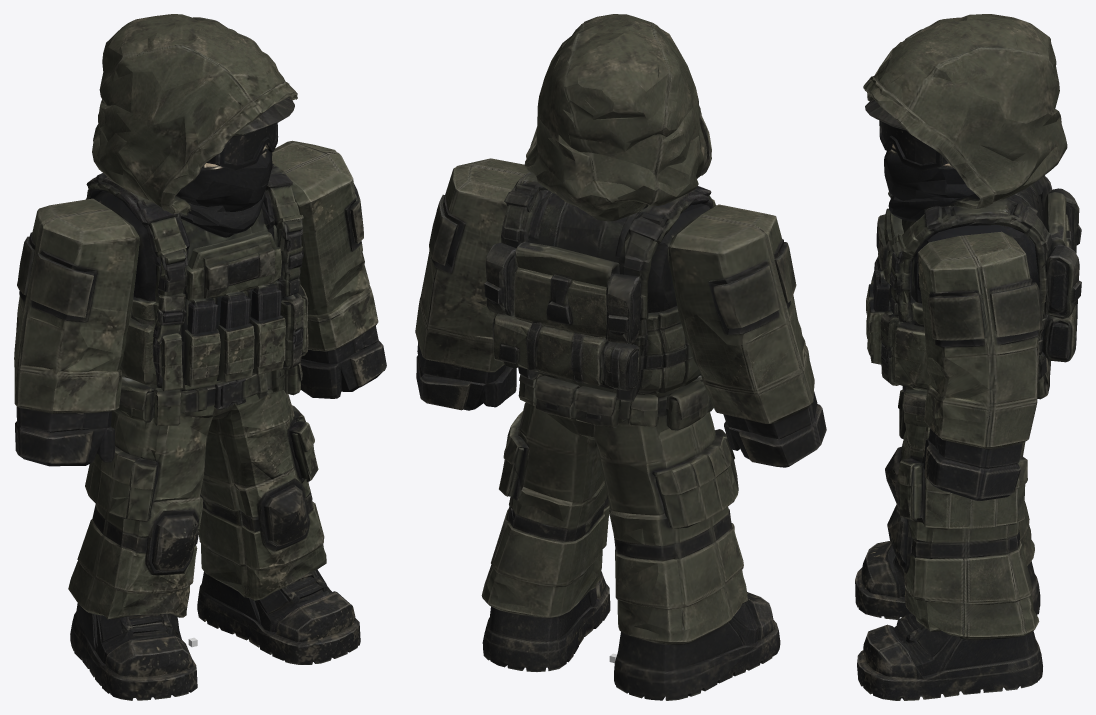
The model's file is AS_Scout.glb.
3 views of the same model, side by side, from view 1: azimuth 30°, elevation 25°; view 2: azimuth 150°, elevation 25°; view 3: azimuth 270°, elevation 25° (orthographic). The views are drawn at different scales.
Parts seen in each view (by area): view 1: Head_Suit, UpperTorso_Suit, LeftFoot_Suit, LeftUpperLeg_Suit, RightLowerArm_Suit, RightFoot_Suit, LowerTorso_Suit, RightUpperArm_Suit, RightLowerLeg_Suit, LeftLowerLeg_Suit, RightUpperLeg_Suit, RightHand_Suit (+3 smaller); view 2: Head_Suit, UpperTorso_Suit, RightLowerLeg_Suit, LowerTorso_Suit, RightFoot_Suit, RightUpperArm_Suit, RightLowerArm_Suit, RightUpperLeg_Suit, LeftFoot_Suit, LeftLowerLeg_Suit, LeftUpperLeg_Suit, LeftLowerArm_Suit (+3 smaller); view 3: Head_Suit, UpperTorso_Suit, LeftFoot_Suit, LeftLowerLeg_Suit, LeftLowerArm_Suit, LeftUpperArm_Suit, LeftUpperLeg_Suit, LeftHand_Suit, RightFoot_Suit, LowerTorso_Suit, RightLowerLeg_Suit, RightUpperLeg_Suit.
Boxes of the visible parts, bbox=[...] form: Head_Suit: bbox=[37, 14, 351, 249]; UpperTorso_Suit: bbox=[86, 185, 308, 420]; LeftFoot_Suit: bbox=[197, 544, 360, 664]; LeftUpperLeg_Suit: bbox=[200, 393, 318, 536]; RightLowerArm_Suit: bbox=[14, 291, 129, 434]; RightFoot_Suit: bbox=[68, 578, 197, 700]; LowerTorso_Suit: bbox=[111, 354, 304, 470]; RightUpperArm_Suit: bbox=[17, 211, 139, 353]; RightLowerLeg_Suit: bbox=[71, 504, 200, 659]; LeftLowerLeg_Suit: bbox=[198, 480, 331, 611]; RightUpperLeg_Suit: bbox=[85, 415, 207, 564]; RightHand_Suit: bbox=[14, 390, 120, 466]; Head_Suit: bbox=[453, 14, 775, 254]; UpperTorso_Suit: bbox=[484, 172, 716, 424]; RightLowerLeg_Suit: bbox=[610, 507, 762, 658]; LowerTorso_Suit: bbox=[515, 373, 727, 474]; RightFoot_Suit: bbox=[614, 588, 780, 700]; RightUpperArm_Suit: bbox=[668, 205, 800, 359]; RightLowerArm_Suit: bbox=[670, 295, 814, 435]; RightUpperLeg_Suit: bbox=[587, 422, 738, 572]; LeftFoot_Suit: bbox=[481, 553, 610, 671]; LeftLowerLeg_Suit: bbox=[485, 487, 609, 625]; LeftUpperLeg_Suit: bbox=[499, 402, 607, 543]; LeftLowerArm_Suit: bbox=[415, 251, 496, 366]; Head_Suit: bbox=[863, 14, 1067, 273]; UpperTorso_Suit: bbox=[866, 175, 1081, 419]; LeftFoot_Suit: bbox=[857, 596, 1042, 700]; LeftLowerLeg_Suit: bbox=[887, 509, 1034, 656]; LeftLowerArm_Suit: bbox=[896, 323, 1038, 465]; LeftUpperArm_Suit: bbox=[918, 233, 1042, 380]; LeftUpperLeg_Suit: bbox=[891, 424, 1027, 570]; LeftHand_Suit: bbox=[923, 402, 1034, 500]; RightFoot_Suit: bbox=[855, 538, 1040, 619]; LowerTorso_Suit: bbox=[881, 358, 1050, 449]; RightLowerLeg_Suit: bbox=[870, 463, 1032, 573]; RightUpperLeg_Suit: bbox=[885, 391, 909, 499].
Bounding box in the file's own units: 3.3 × 5.22 × 1.74.
Materials: 2 (1 with a texture image).
